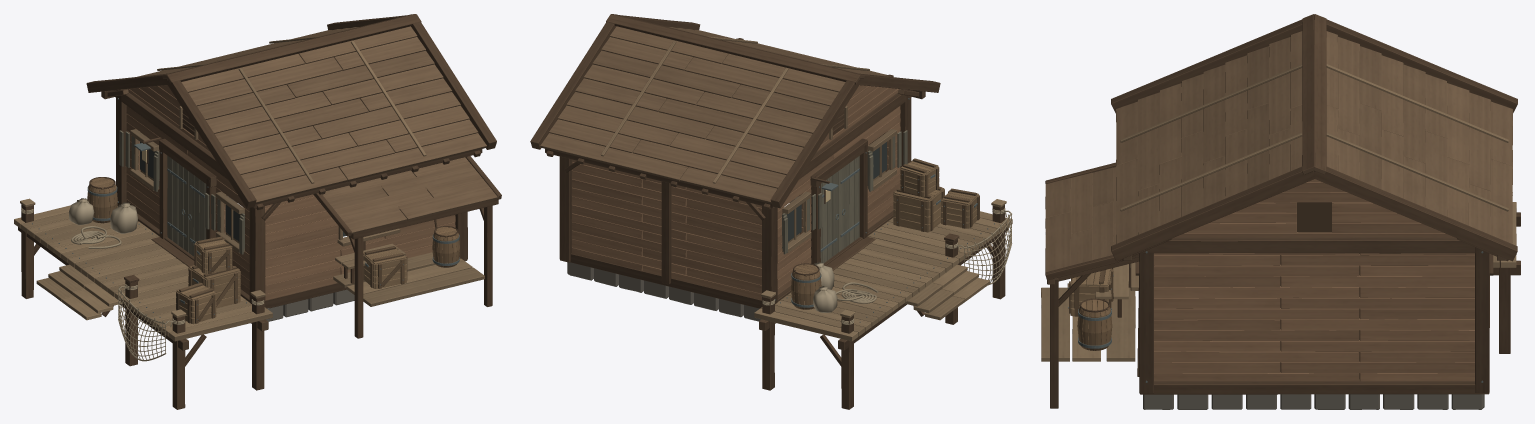
Rendered from harbor_office.glb.
3 views of the same model, side by side, from view 1: azimuth 30°, elevation 25°; view 2: azimuth 150°, elevation 25°; view 3: azimuth 270°, elevation 25° (orthographic). The views are drawn at different scales.
Visible parts, largest first — view 1: HarborCraft_Joinery_roof assembled, HarborCraft_Joinery_frame assembled, HarborCraft_Joinery_deck assembled, HarborCraft_Joinery_wall assembled, HarborCraft_Joinery_door assembled, HarborCraft_Joinery_cargo assembled, HarborCraft_Joinery_trim assembled, HarborCraft_Joinery_cargo_frame assembled, HarborCraft_Hemp assembled, HarborCraft_Joinery_barrel assembled, HarborCraft_Sailcloth assembled, HarborCraft_Footing assembled (+2 smaller); view 2: HarborCraft_Joinery_roof assembled, HarborCraft_Joinery_frame assembled, HarborCraft_Joinery_wall assembled, HarborCraft_Joinery_deck assembled, HarborCraft_Joinery_door assembled, HarborCraft_Joinery_cargo assembled, HarborCraft_Joinery_trim assembled, HarborCraft_Footing assembled, HarborCraft_Hemp assembled, HarborCraft_Joinery_cargo_frame assembled, HarborCraft_Joinery_barrel assembled, HarborCraft_Sailcloth assembled (+2 smaller); view 3: HarborCraft_Joinery_roof assembled, HarborCraft_Joinery_wall assembled, HarborCraft_Joinery_frame assembled, HarborCraft_Footing assembled, HarborCraft_Joinery_deck assembled, HarborCraft_Joinery_trim assembled, HarborCraft_Joinery_barrel assembled, HarborCraft_Joinery_inner assembled, HarborCraft_Joinery_cargo assembled, HarborCraft_Joinery_cargo_frame assembled.
Part boxes in pixels (x1,y1,x2,y2): HarborCraft_Joinery_roof assembled: [137, 26, 498, 234]; HarborCraft_Joinery_frame assembled: [18, 14, 501, 409]; HarborCraft_Joinery_deck assembled: [14, 198, 484, 341]; HarborCraft_Joinery_wall assembled: [126, 85, 455, 300]; HarborCraft_Joinery_door assembled: [119, 130, 244, 256]; HarborCraft_Joinery_cargo assembled: [176, 239, 406, 324]; HarborCraft_Joinery_trim assembled: [130, 36, 426, 253]; HarborCraft_Joinery_cargo_frame assembled: [176, 236, 407, 323]; HarborCraft_Hemp assembled: [21, 199, 264, 361]; HarborCraft_Joinery_barrel assembled: [87, 177, 459, 267]; HarborCraft_Sailcloth assembled: [69, 198, 137, 233]; HarborCraft_Footing assembled: [228, 196, 354, 321]; HarborCraft_Joinery_roof assembled: [540, 26, 888, 203]; HarborCraft_Joinery_frame assembled: [530, 14, 1008, 409]; HarborCraft_Joinery_wall assembled: [571, 85, 900, 299]; HarborCraft_Joinery_deck assembled: [754, 199, 1012, 341]; HarborCraft_Joinery_door assembled: [782, 130, 907, 263]; HarborCraft_Joinery_cargo assembled: [893, 161, 979, 232]; HarborCraft_Joinery_trim assembled: [601, 36, 896, 253]; HarborCraft_Footing assembled: [567, 196, 798, 321]; HarborCraft_Hemp assembled: [762, 208, 1012, 324]; HarborCraft_Joinery_cargo_frame assembled: [893, 158, 979, 231]; HarborCraft_Joinery_barrel assembled: [791, 264, 821, 309]; HarborCraft_Sailcloth assembled: [813, 262, 837, 312]; HarborCraft_Joinery_roof assembled: [1045, 31, 1512, 272]; HarborCraft_Joinery_wall assembled: [1154, 179, 1474, 381]; HarborCraft_Joinery_frame assembled: [1045, 14, 1520, 408]; HarborCraft_Footing assembled: [1143, 394, 1484, 409]; HarborCraft_Joinery_deck assembled: [1041, 202, 1516, 361]; HarborCraft_Joinery_trim assembled: [1120, 64, 1508, 290]; HarborCraft_Joinery_barrel assembled: [1077, 299, 1112, 350]; HarborCraft_Joinery_inner assembled: [1280, 202, 1359, 379]; HarborCraft_Joinery_cargo assembled: [1070, 268, 1111, 316]; HarborCraft_Joinery_cargo_frame assembled: [1067, 269, 1113, 316].
Size of the model in its own units: 8.24 by 5.81 by 7.69.
16 materials, 12 textured.
